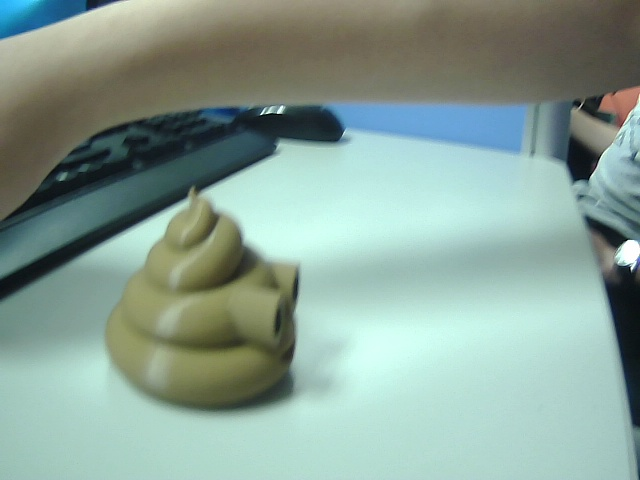shit: (98, 176, 313, 415)
